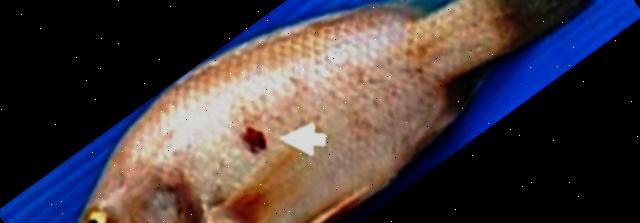Tilapia Lake Virus -TiLV-: (77, 0, 589, 223)
